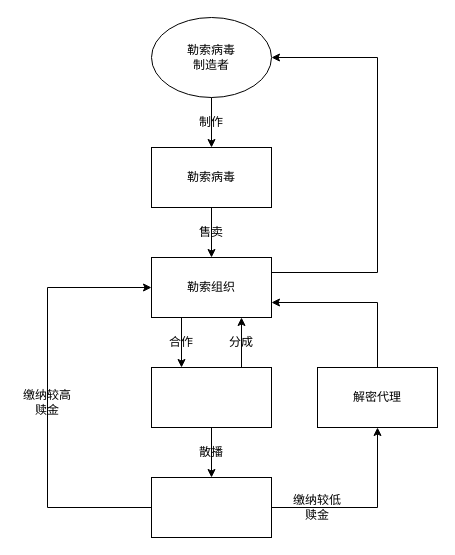
Image size: 455x555. Some labels were removed from this diagram. Here are the shapes that lost their labels. From the top down, the box of each, then its label:
(150, 366, 272, 428): 传播渠道
(150, 476, 272, 538): 受害者
